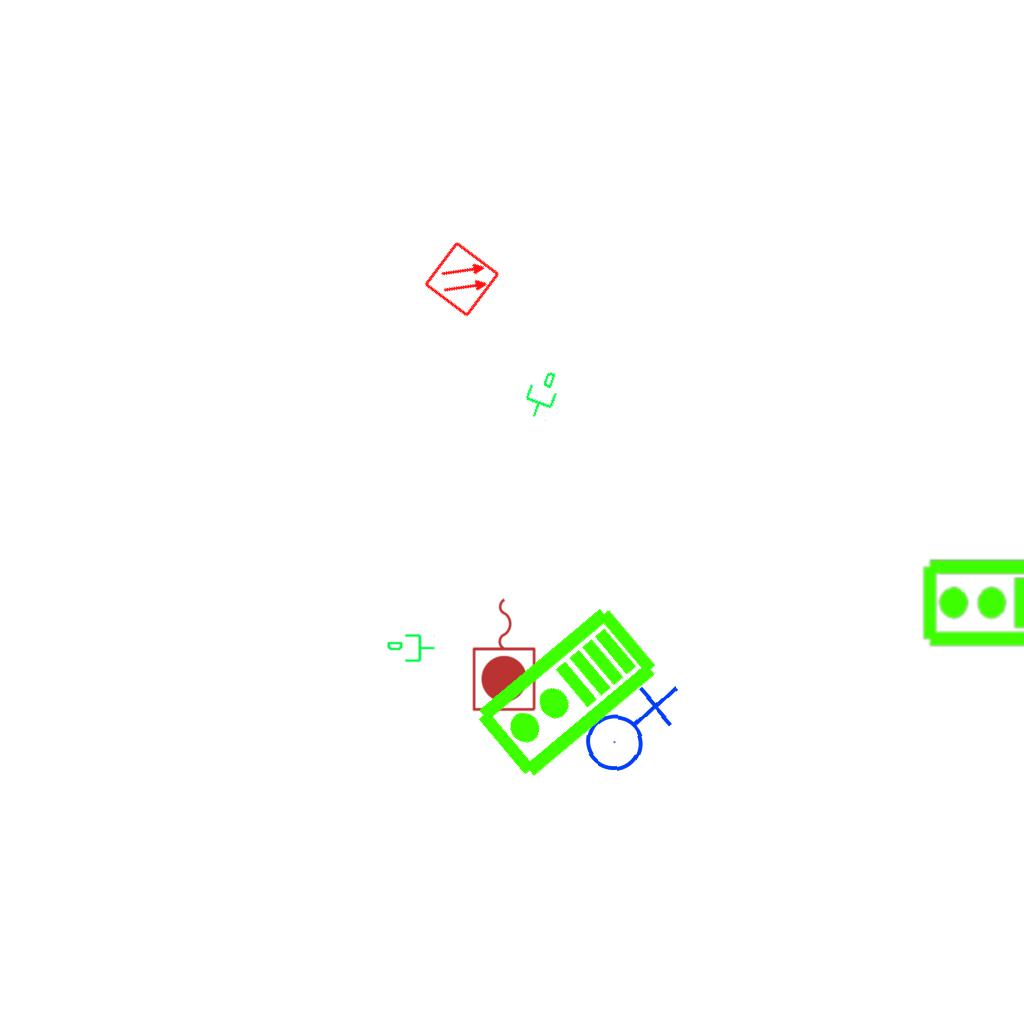Datenanschluss_einfach: (516, 364, 566, 424), (386, 632, 436, 666)
Elektroanschluss_allgemein_230V_Geraeteanschlussdose_230V: (575, 676, 680, 776)
Gegensprechanlage_mit_Video: (469, 601, 666, 787), (920, 557, 1024, 652)
RMO_Rauchmelder_optischer: (422, 239, 502, 319)
Zugtaster: (469, 593, 541, 715)
